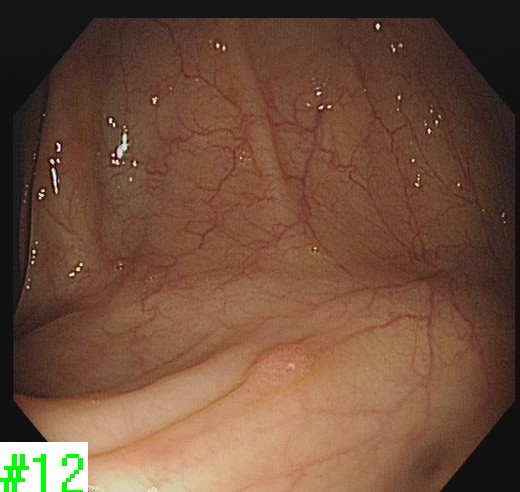adenoma: (244, 340, 319, 393)
